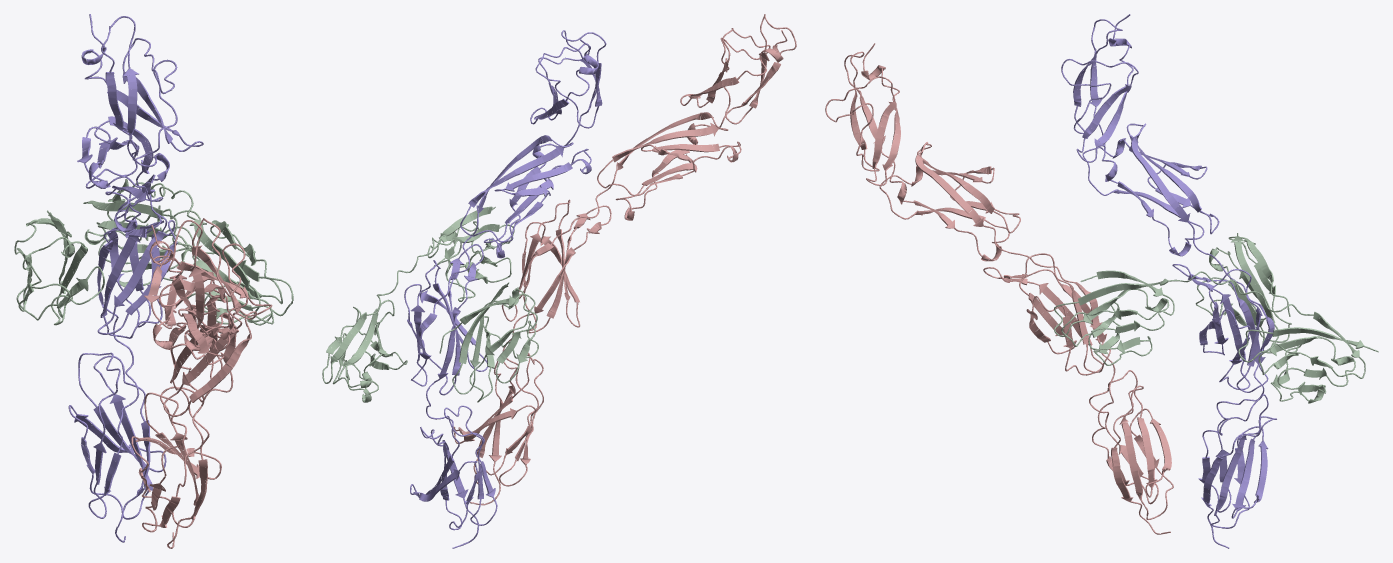
Rendered from ribbon2.gltf.
3 renders of one model, left to right at view 1: azimuth 30°, elevation 25°; view 2: azimuth 150°, elevation 25°; view 3: azimuth 270°, elevation 25°, orthographic. The views are drawn at different scales.
Visible parts, largest first — view 1: ribbons; view 2: ribbons; view 3: ribbons.
Part boxes in pixels (<box>): ribbons: <box>14,14,293,548</box>; ribbons: <box>322,14,796,548</box>; ribbons: <box>825,14,1378,548</box>.
Bounding box in the file's own units: 0.8182 × 1.62 × 1.64.
